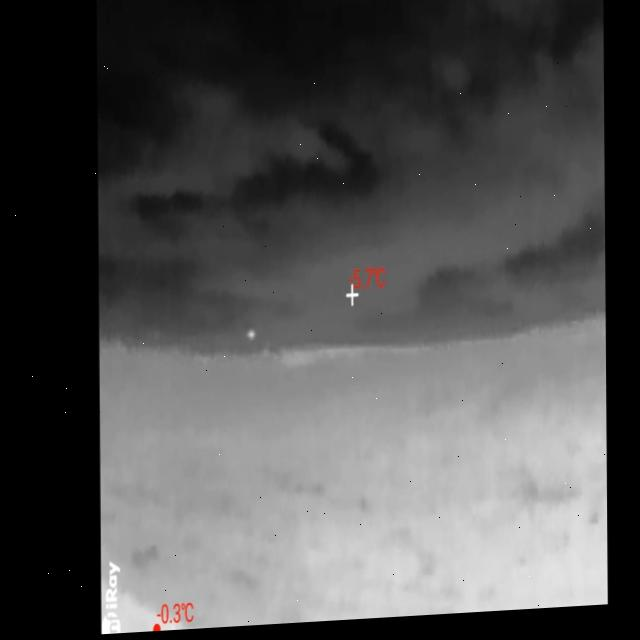drone: (245, 326, 257, 347)
